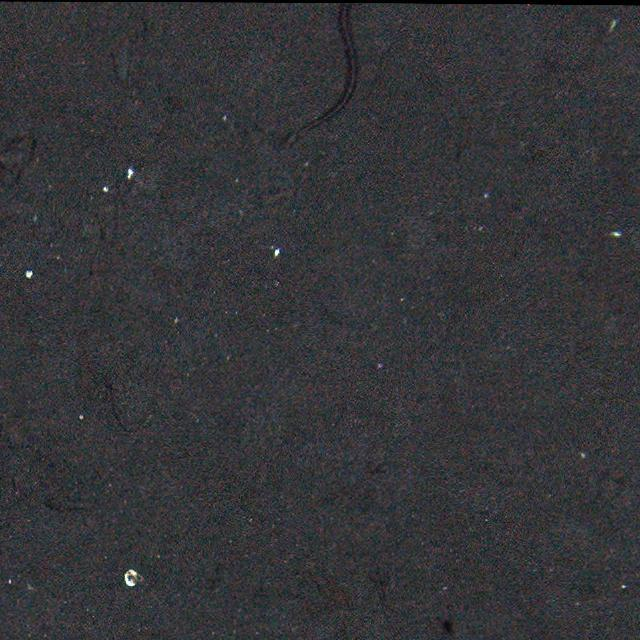eel: (286, 0, 363, 151)
